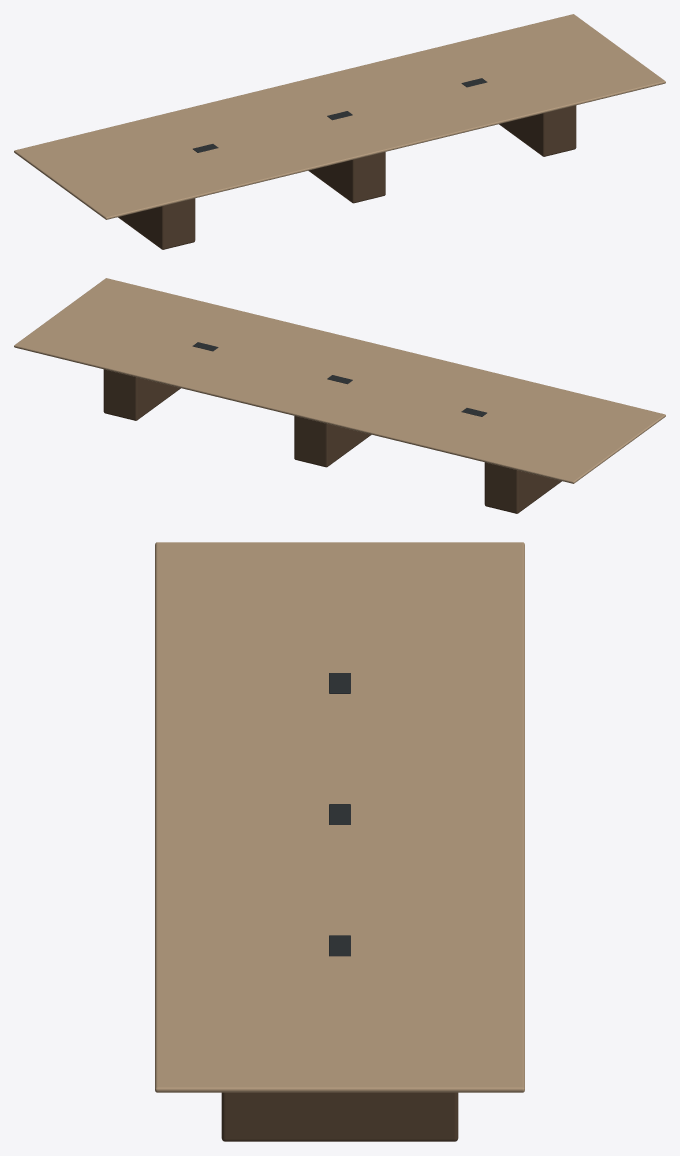
Rendered from 07_会议桌_大会议室.glb.
3 renders of one model, top to bottom at view 1: azimuth 30°, elevation 25°; view 2: azimuth 150°, elevation 25°; view 3: azimuth 270°, elevation 25°, orthographic. The views are drawn at different scales.
Visible parts, largest first — view 1: 桌面, 厚板底座, 厚板底座.002, 厚板底座.001; view 2: 桌面, 厚板底座, 厚板底座.002, 厚板底座.001; view 3: 桌面, 厚板底座.002.
Part boxes in pixels (x1,y1,x2,y2): 桌面: [14, 14, 665, 219]; 厚板底座: [118, 198, 195, 249]; 厚板底座.002: [499, 105, 576, 156]; 厚板底座.001: [308, 152, 385, 203]; 桌面: [14, 278, 665, 483]; 厚板底座: [484, 462, 561, 513]; 厚板底座.002: [103, 369, 180, 420]; 厚板底座.001: [294, 416, 371, 467]; 桌面: [155, 542, 524, 1092]; 厚板底座.002: [221, 1092, 458, 1141].
Bounding box in the file's own units: 7 × 0.7555 × 2.
